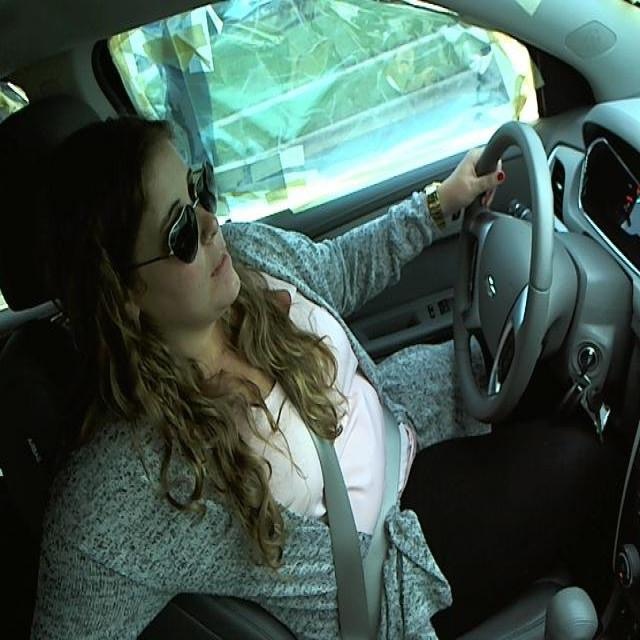seatbelt: (253, 300, 416, 617)
